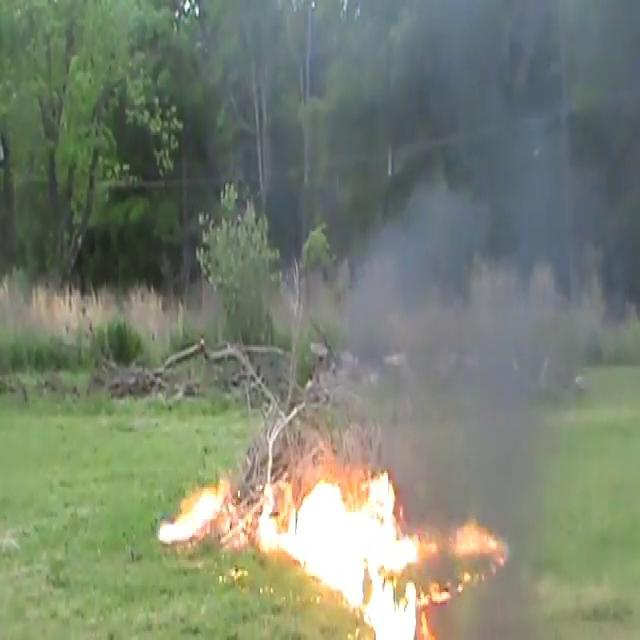Fire: (168, 460, 464, 638)
Smoke: (290, 0, 640, 432)
